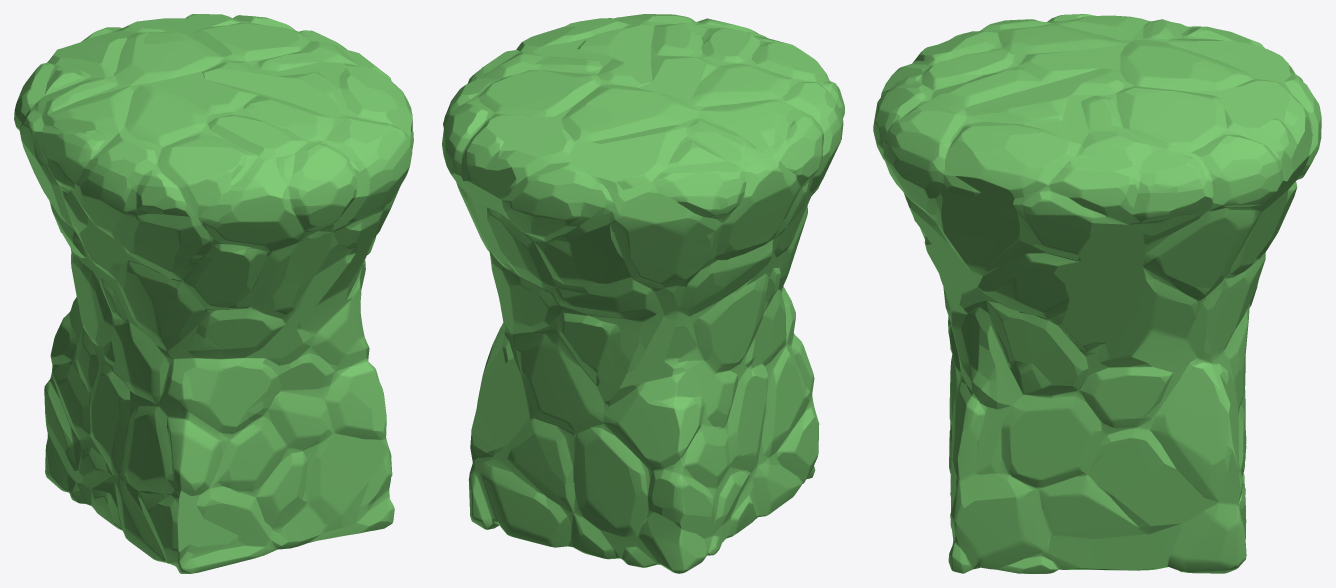
File: cactus_desert.fbx_CactusLODs.fbx
The picture shows the model from 3 angles, left to right: view 1: azimuth 30°, elevation 25°; view 2: azimuth 150°, elevation 25°; view 3: azimuth 270°, elevation 25°; orthographic projection. The views are drawn at different scales.
Visible parts, largest first — view 1: Cactus_LOD0; view 2: Cactus_LOD0; view 3: Cactus_LOD0.
Part boxes in pixels (<box>): Cactus_LOD0: <box>14,14,413,573</box>; Cactus_LOD0: <box>442,14,844,573</box>; Cactus_LOD0: <box>873,14,1321,573</box>.
Size of what is drawn, in the model's own units: 4247 by 5296 by 4754.
